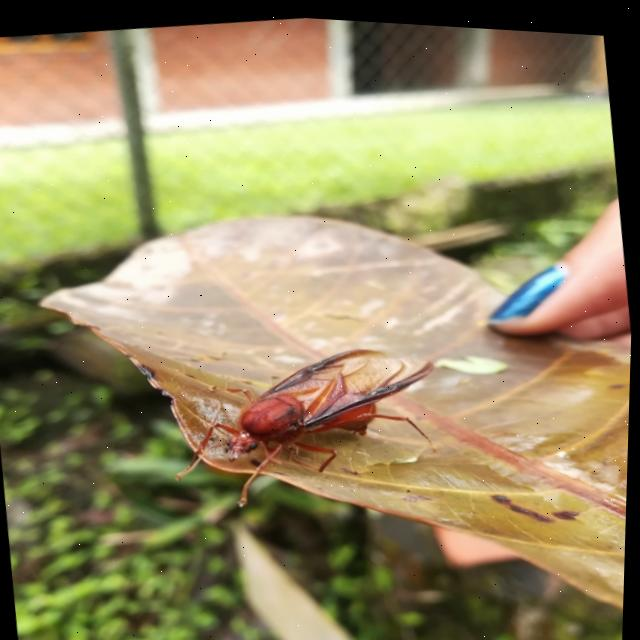Alive-Male-Alate: (161, 325, 454, 522)
